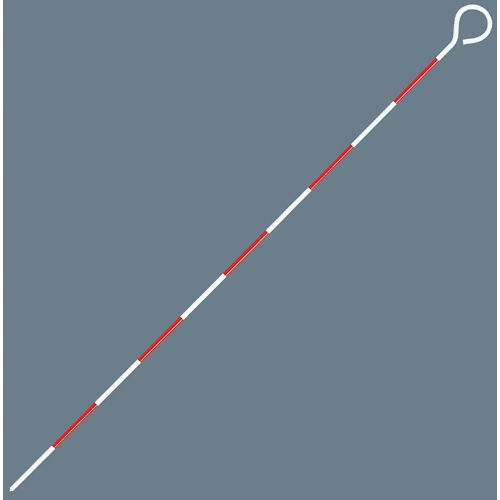poll: (0, 2, 494, 494)
